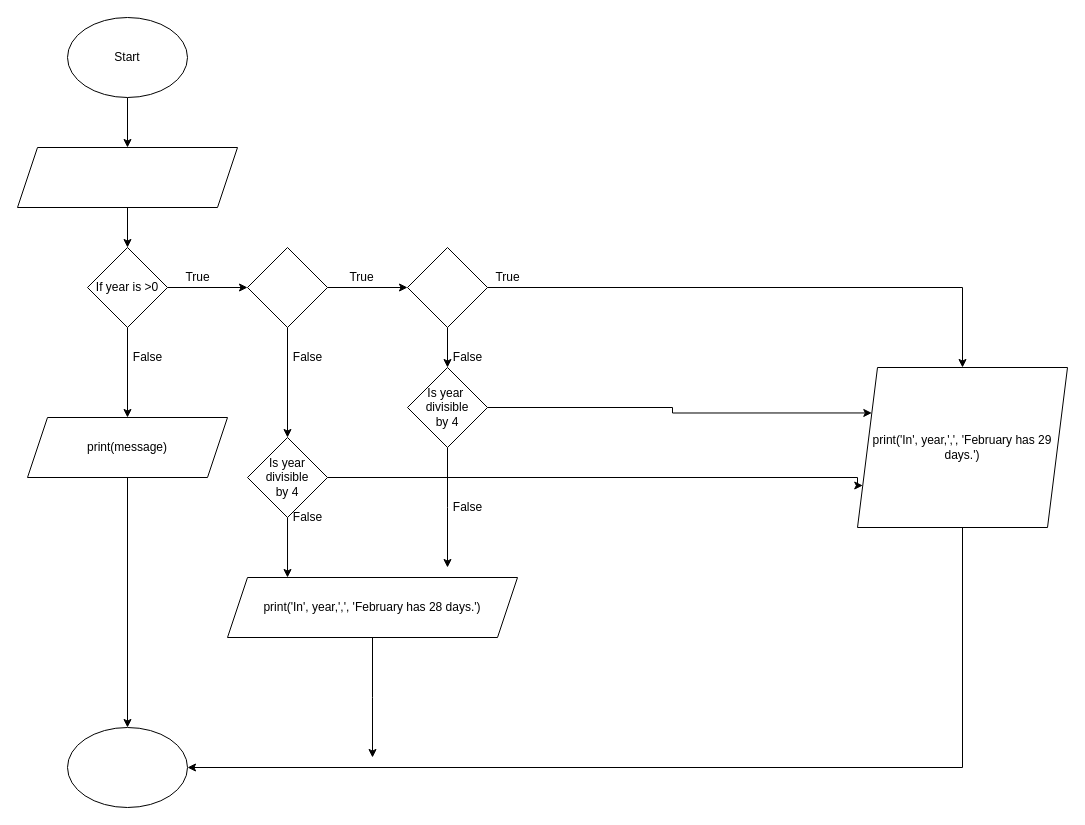
This 1085x825 diagram has some shape labels left out. The shapes that lost their labels are listed below. From the top down, each one's centre as x and y in pixels, then its label:
At point (127, 177): "Prompt user to enter year".
At point (287, 287): "Is year divisible by 100".
At point (447, 287): "Is year divisible by 400".
At point (127, 767): "End".
